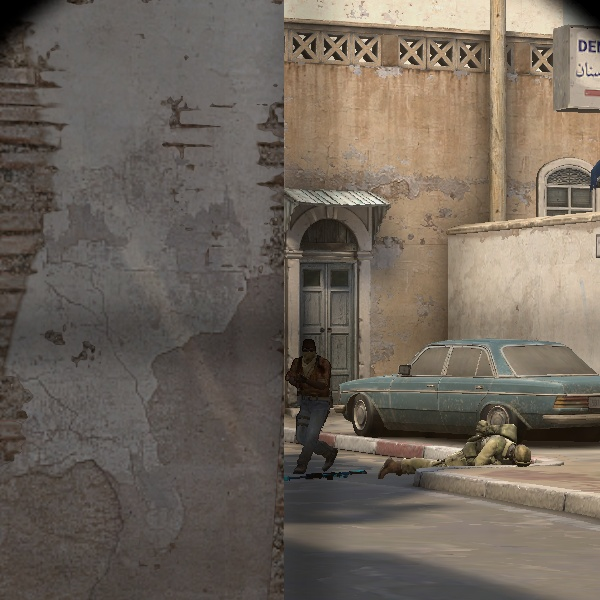t_body: (276, 332, 349, 483)
